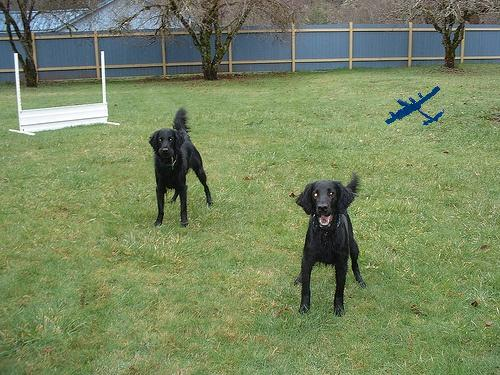tampered: (386, 87, 444, 125)
